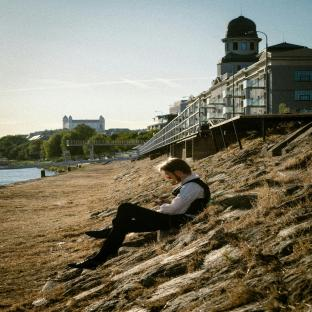Human: (68, 158, 210, 268)
